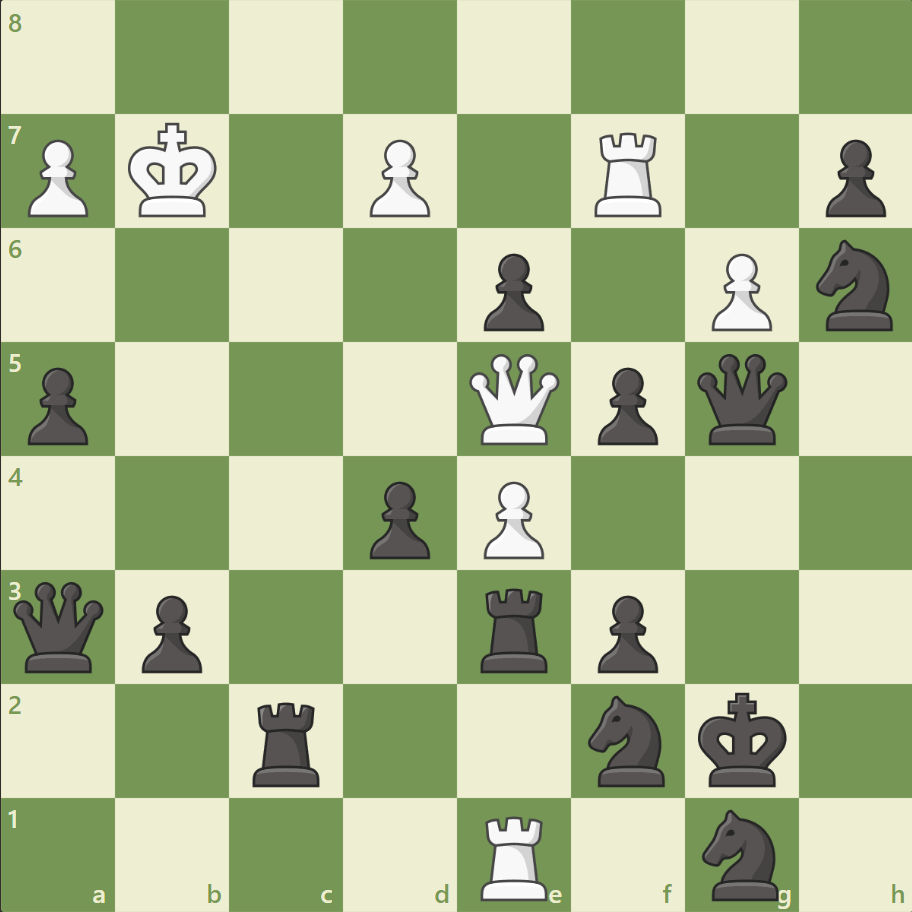K: (124, 117, 224, 225)
P: (20, 132, 95, 223), (701, 246, 776, 337), (474, 473, 549, 564), (361, 132, 435, 223)
Q: (464, 349, 563, 449)
R: (473, 806, 556, 904), (587, 125, 670, 222)
k: (692, 685, 792, 793)
n: (806, 234, 903, 337), (579, 688, 676, 791), (692, 802, 789, 904)
p: (474, 246, 549, 337), (20, 359, 95, 450), (133, 586, 208, 677), (815, 132, 889, 223), (588, 359, 662, 450), (361, 473, 435, 564), (588, 586, 662, 677)
q: (691, 349, 790, 449), (10, 576, 109, 676)
r: (473, 579, 556, 676), (246, 693, 329, 790)
